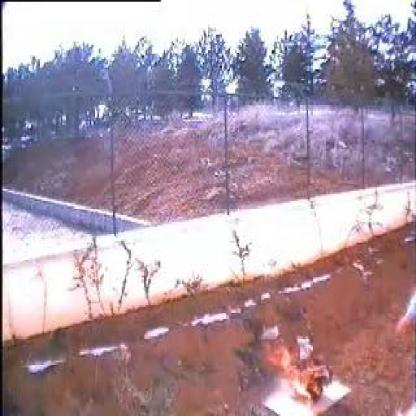foggia-v2-map80-epoch100 - v1 4323: (275, 348, 328, 383)
